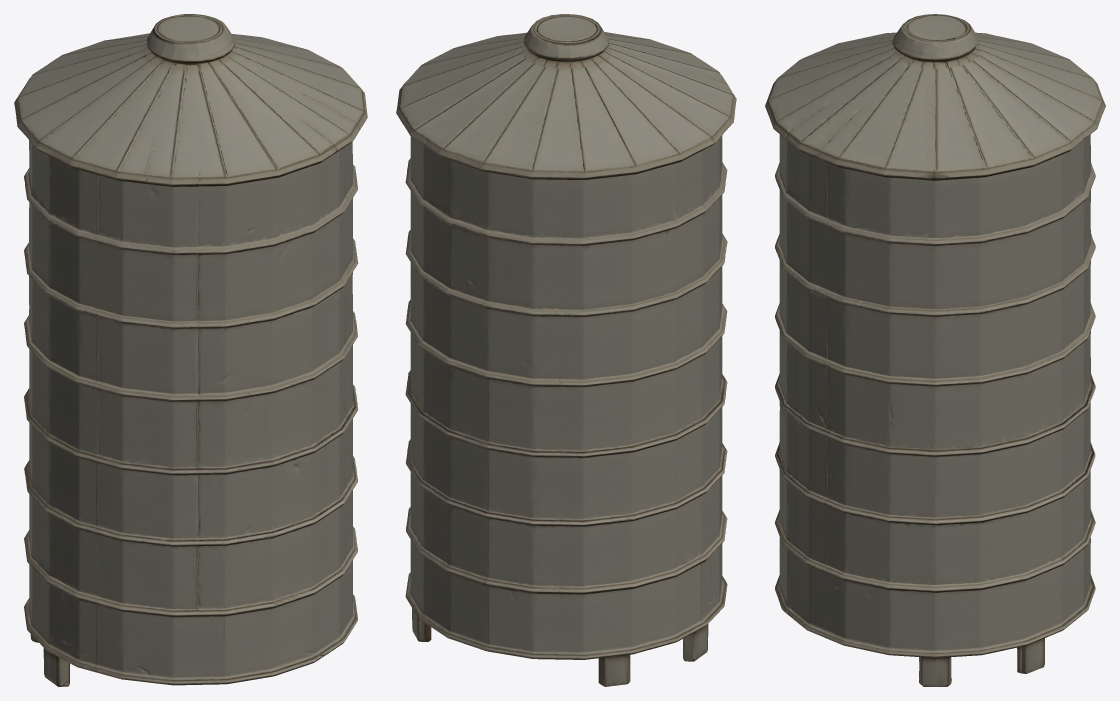
File: metal_silo_3d_model.fbx
3 views of the same model, side by side, from view 1: azimuth 30°, elevation 25°; view 2: azimuth 150°, elevation 25°; view 3: azimuth 270°, elevation 25° (orthographic). The views are drawn at different scales.
Visible parts, largest first — view 1: tripo_node_d4926db1; view 2: tripo_node_d4926db1; view 3: tripo_node_d4926db1.
Part boxes in pixels (bbox=[...]): tripo_node_d4926db1: bbox=[14, 14, 367, 686]; tripo_node_d4926db1: bbox=[396, 14, 736, 686]; tripo_node_d4926db1: bbox=[765, 14, 1105, 686].
Bounding box in the file's own units: 0.5089 × 0.9807 × 0.5103.
